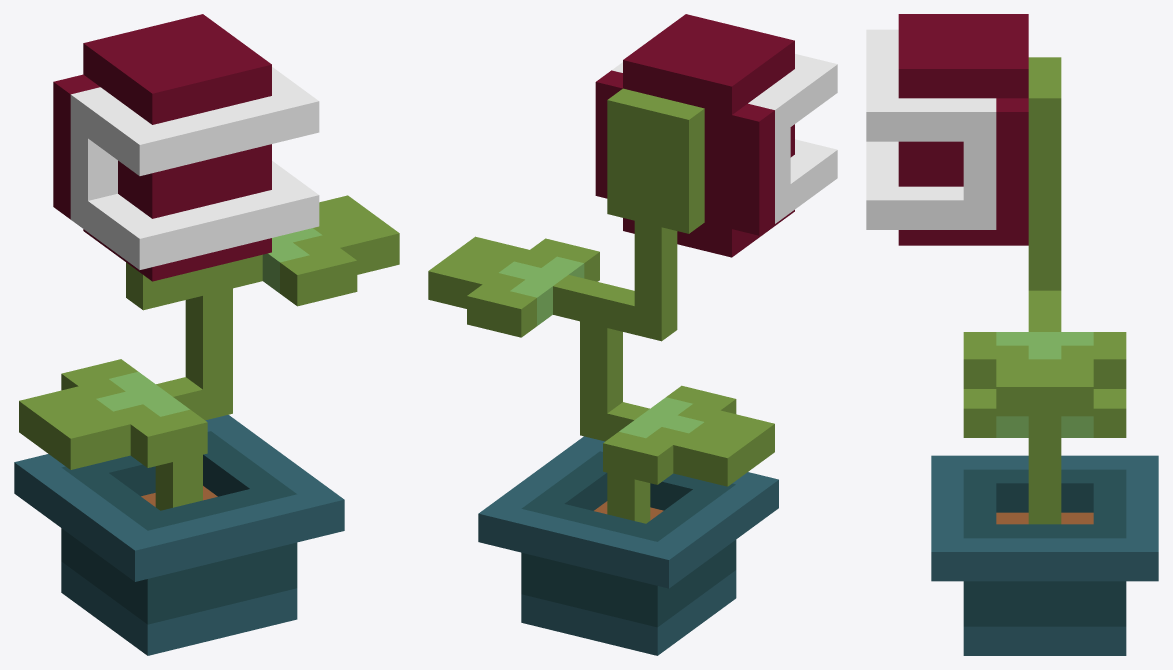
Rendered from flower.obj.
The picture shows the model from 3 angles, left to right: view 1: azimuth 30°, elevation 25°; view 2: azimuth 150°, elevation 25°; view 3: azimuth 270°, elevation 25°; orthographic projection. The views are drawn at different scales.
Bounding box in the file's own units: 1.1 × 1.9 × 0.9.
1 material, 1 textured.
